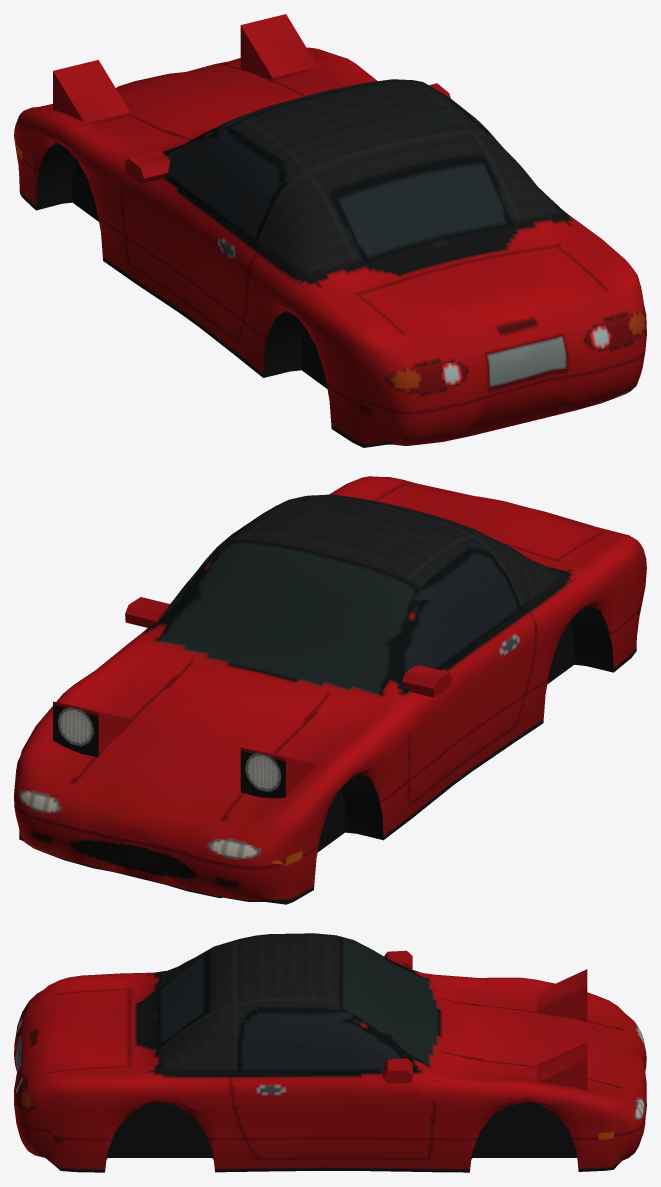
The model's file is classic_roadster.obj.
3 views of the same model, one above another, from view 1: azimuth 30°, elevation 25°; view 2: azimuth 150°, elevation 25°; view 3: azimuth 270°, elevation 25° (orthographic). The views are drawn at different scales.
Parts seen in each view (by area): view 1: classic_roadster; view 2: classic_roadster; view 3: classic_roadster.
Boxes of the visible parts, x1,y1,x2,y2 form: classic_roadster: (14, 14, 646, 447); classic_roadster: (14, 476, 646, 904); classic_roadster: (14, 933, 646, 1172).
Bounding box in the file's own units: 1.77 × 1.08 × 3.95.
1 material, 1 textured.
